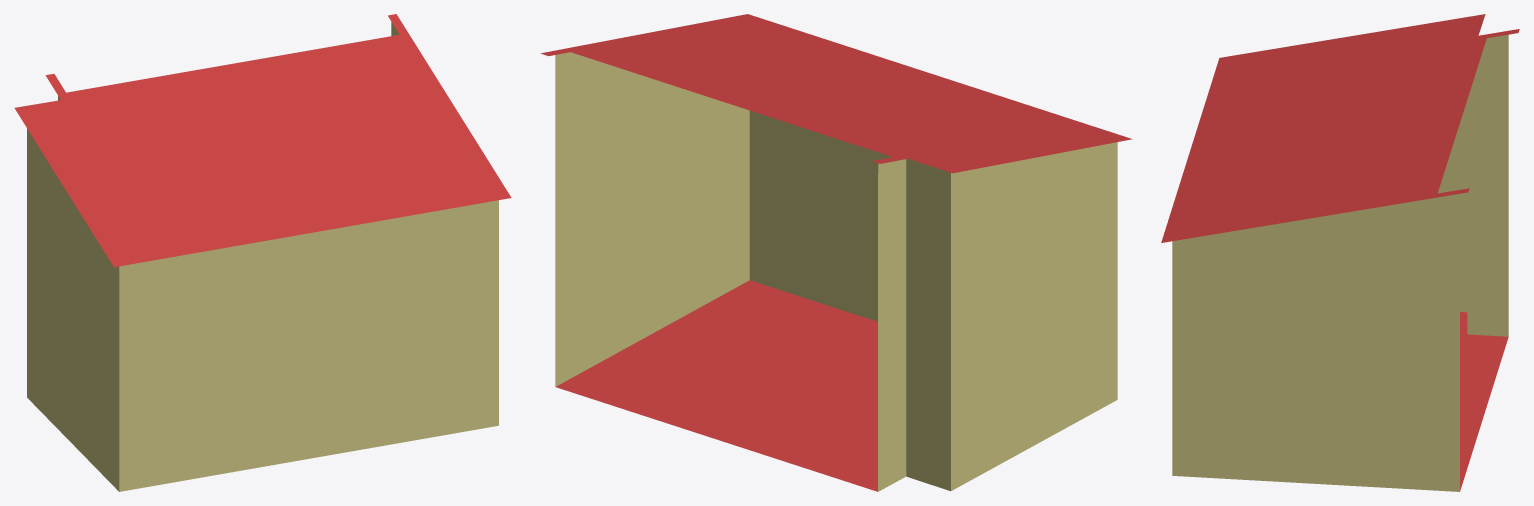
3 renders of one model, left to right at view 1: azimuth 30°, elevation 25°; view 2: azimuth 150°, elevation 25°; view 3: azimuth 270°, elevation 25°, orthographic. The views are drawn at different scales.
Bounding box in the file's own units: 12.12 × 9.08 × 8.49.
